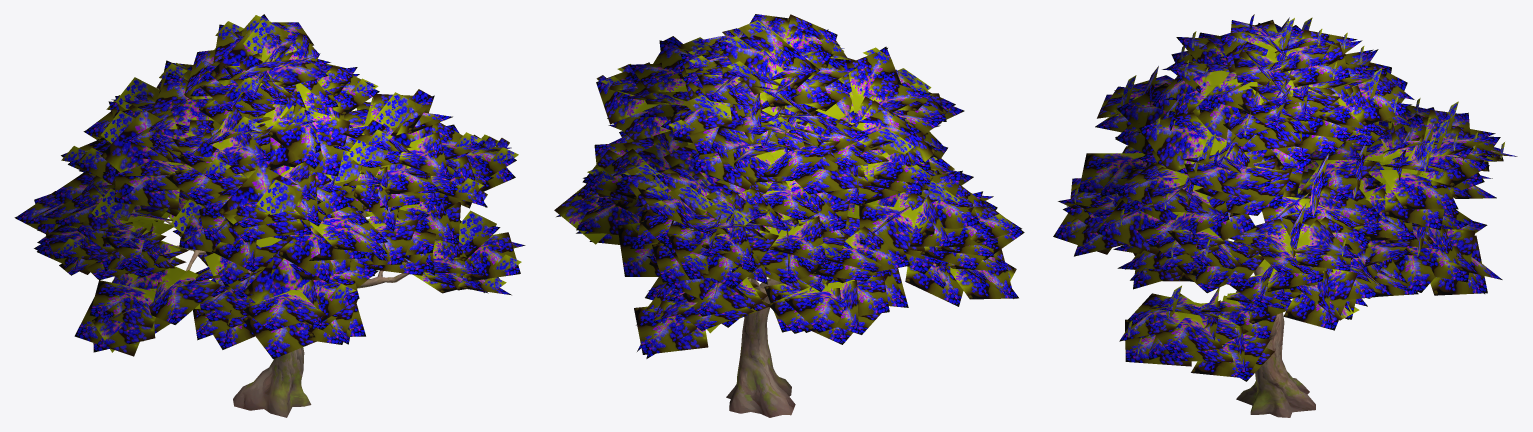
Rendered from Homeworld_Exterior_Cyg_Plant_Tree_Qiaoying_01_Lod0.fbx.
3 views of the same model, side by side, from view 1: azimuth 30°, elevation 25°; view 2: azimuth 150°, elevation 25°; view 3: azimuth 270°, elevation 25° (orthographic). The views are drawn at different scales.
Parts seen in each view (by area): view 1: Area_Cyg_Tree_QYZ_Lhs_01_Leaf_Lod0, Area_Cyg_Tree_QYZ_Lhs_01_Bark_Lod0; view 2: Area_Cyg_Tree_QYZ_Lhs_01_Leaf_Lod0, Area_Cyg_Tree_QYZ_Lhs_01_Bark_Lod0; view 3: Area_Cyg_Tree_QYZ_Lhs_01_Leaf_Lod0, Area_Cyg_Tree_QYZ_Lhs_01_Bark_Lod0.
Boxes of the visible parts, x1,y1,x2,y2 form: Area_Cyg_Tree_QYZ_Lhs_01_Leaf_Lod0: [14, 14, 525, 359]; Area_Cyg_Tree_QYZ_Lhs_01_Bark_Lod0: [165, 114, 409, 417]; Area_Cyg_Tree_QYZ_Lhs_01_Leaf_Lod0: [554, 14, 1024, 358]; Area_Cyg_Tree_QYZ_Lhs_01_Bark_Lod0: [688, 73, 795, 417]; Area_Cyg_Tree_QYZ_Lhs_01_Leaf_Lod0: [1053, 14, 1517, 381]; Area_Cyg_Tree_QYZ_Lhs_01_Bark_Lod0: [1226, 200, 1315, 417].
Bounding box in the file's own units: 20.14 × 16.71 × 18.28.
2 materials, 2 textured.
